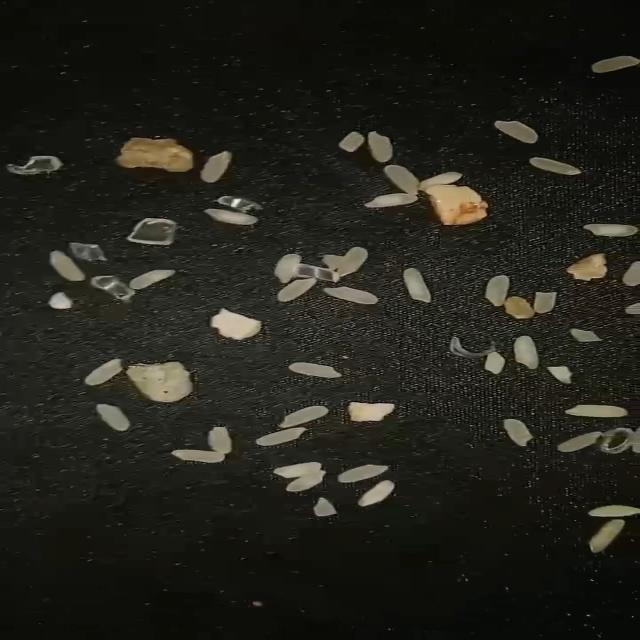Broken: (484, 351, 506, 375), (534, 292, 558, 314), (313, 496, 338, 517), (338, 132, 364, 152), (567, 328, 604, 342), (546, 366, 574, 384), (47, 291, 73, 309), (622, 260, 640, 286), (322, 252, 344, 270)
Full: (210, 308, 260, 341), (383, 164, 419, 197), (588, 520, 624, 553), (50, 251, 86, 283), (403, 267, 433, 304), (279, 406, 329, 428), (84, 358, 123, 386), (322, 286, 378, 305), (495, 121, 539, 145), (528, 157, 582, 176), (202, 150, 233, 183), (418, 171, 464, 193), (96, 404, 132, 432), (358, 480, 394, 507), (255, 428, 308, 446), (558, 431, 603, 452), (338, 464, 387, 483), (591, 55, 640, 74), (286, 469, 326, 492), (130, 270, 176, 290), (278, 278, 316, 302), (514, 335, 540, 370), (205, 208, 258, 225), (564, 404, 628, 418), (503, 418, 534, 446), (273, 461, 321, 479), (289, 362, 342, 378), (368, 131, 394, 163), (206, 426, 235, 454), (484, 275, 509, 307), (365, 193, 418, 208), (171, 449, 227, 463), (582, 223, 638, 237), (275, 254, 302, 282), (586, 504, 640, 516)
